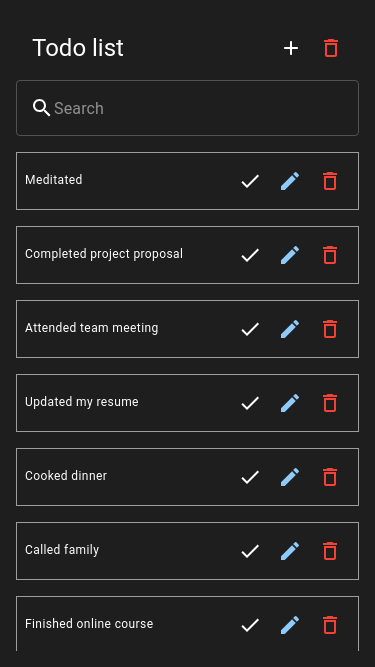
Test: Should cover all functionalities from the todo list app in mobile environment › Should create a new item and add it on top of the list
The width and height of the screenshot is (375, 667).
Click the button with test id "btn-add-task" at {"x": 291, "y": 48}, box [271,28,311,68]
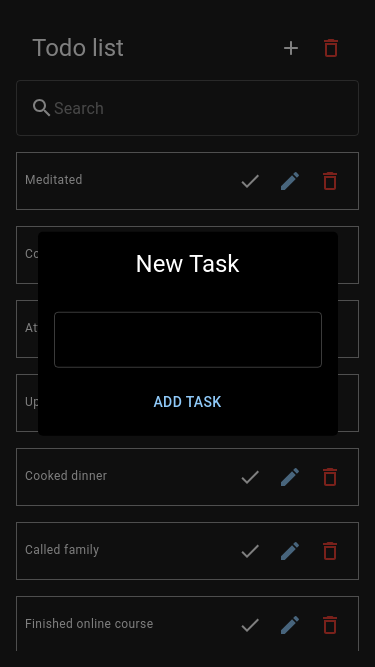
Type "new task" into the element with test id "input-create-task" at {"x": 188, "y": 339}, box [54,311,322,367]
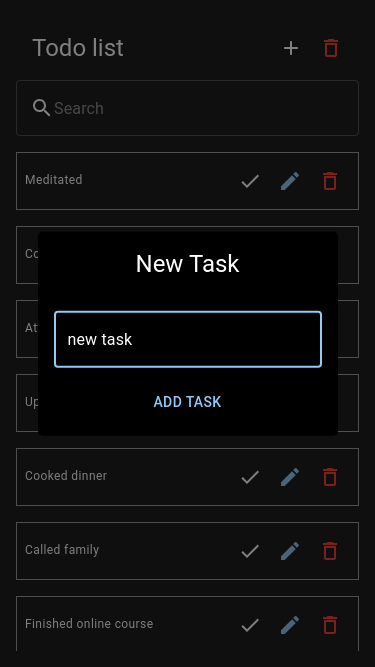
Click the button with test id "btn-submit" at {"x": 188, "y": 402}, box [54,383,322,420]
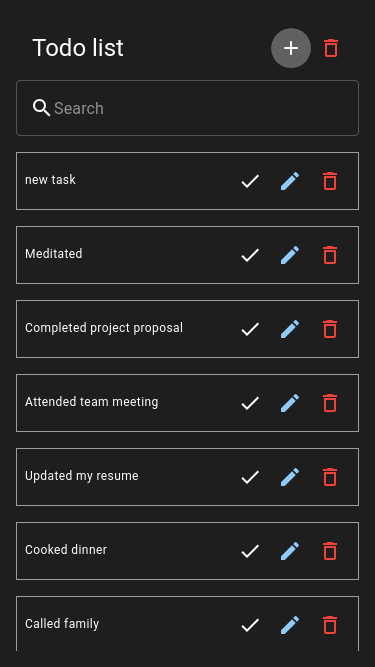
Result: the list item with test id "card-row-0" reads "new task" at [16,152,359,210]
